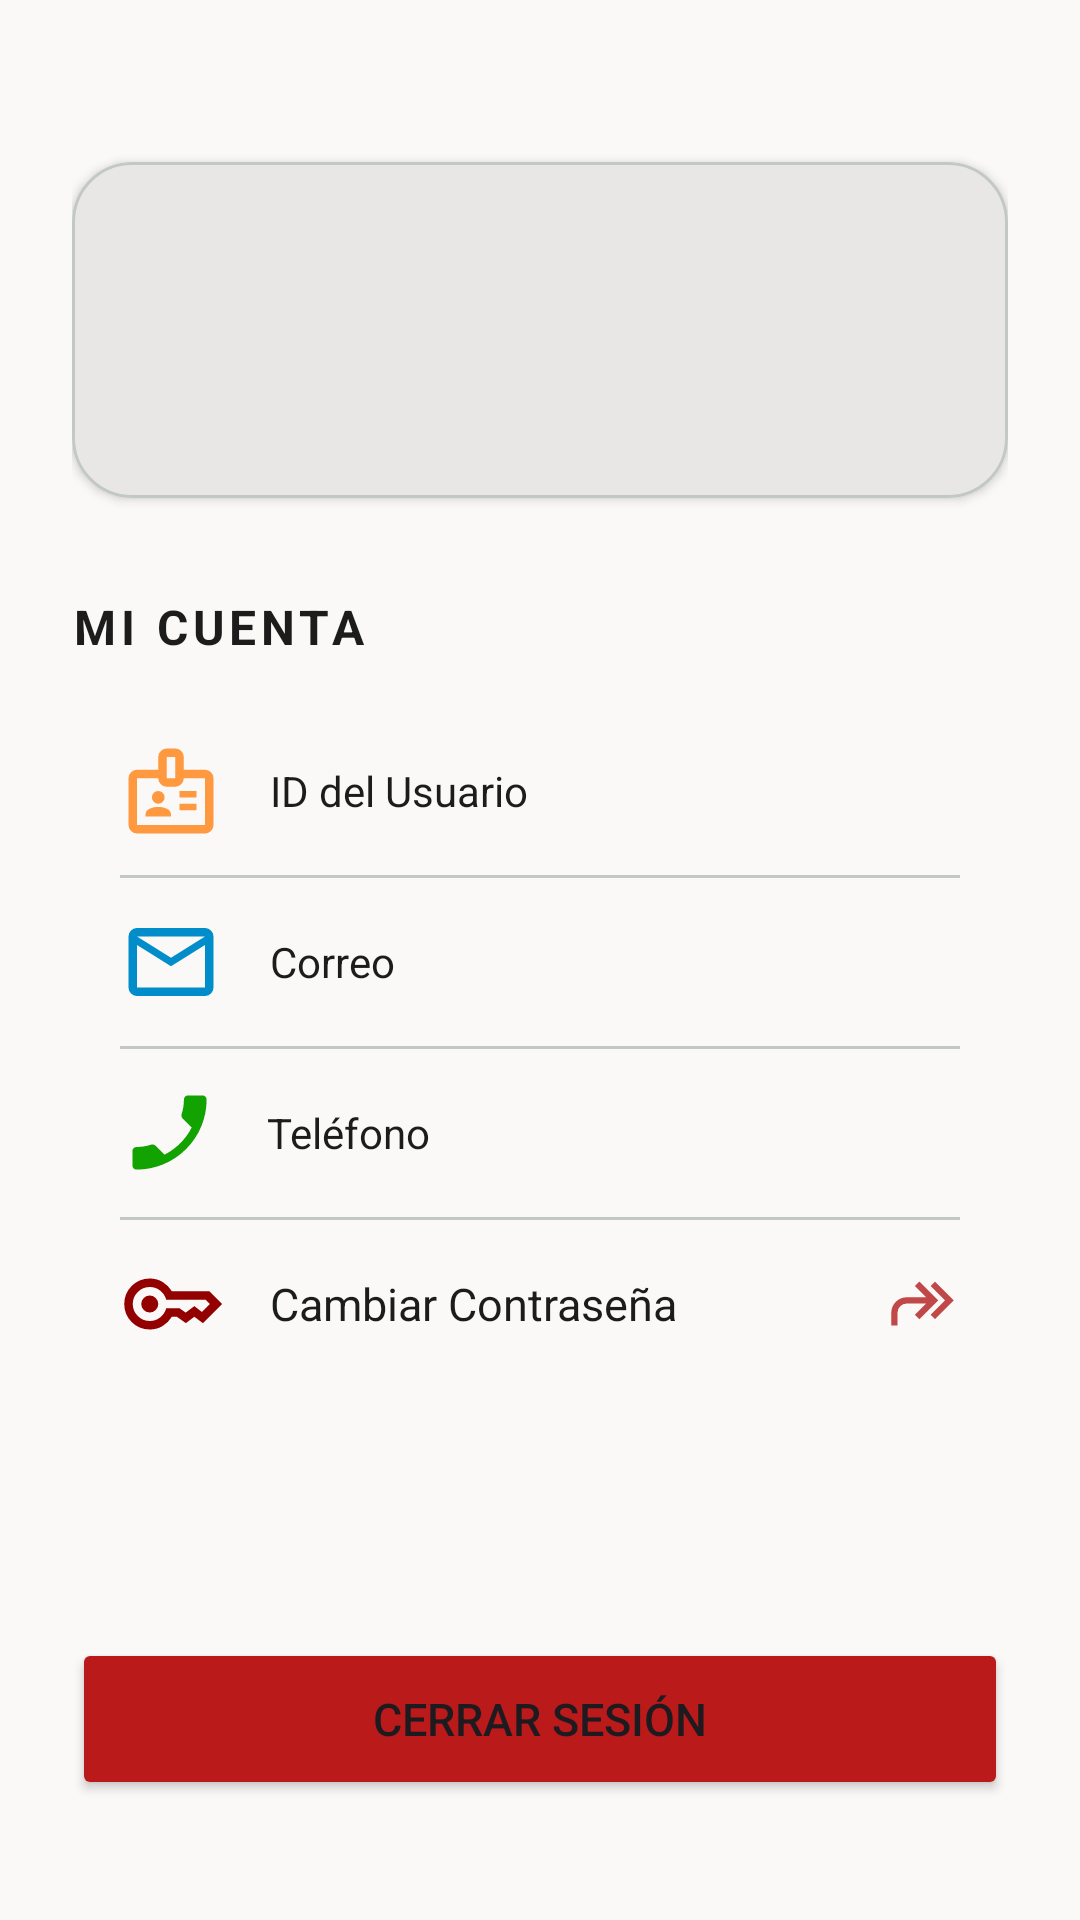

Where to tap for icons on this 1080w x 1920h app screen, as [x,y]:
adelante: [922,1303]
clave: [173,1304]
telefono: [169,1132]
